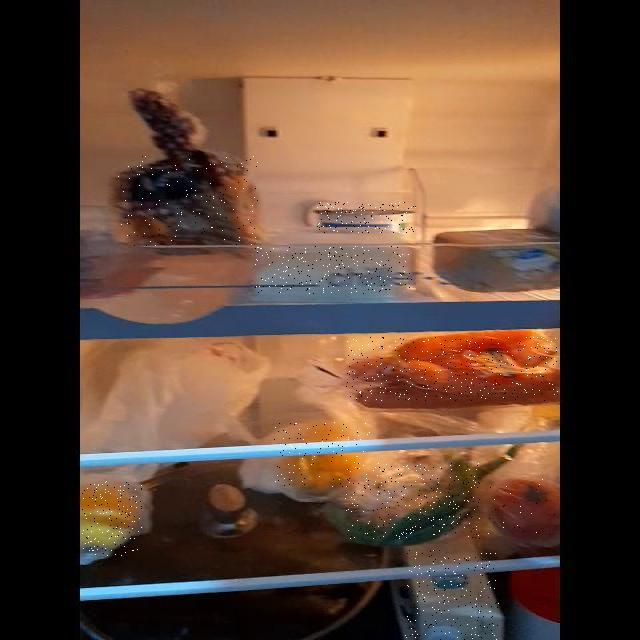bread: (119, 156, 258, 246)
butter: (439, 230, 557, 288)
carrot: (346, 337, 558, 401)
cheese: (255, 246, 412, 294)
green chilies: (345, 463, 480, 539)
lemon: (274, 422, 370, 487), (82, 481, 142, 556)
milk: (405, 550, 499, 640)
tomato: (488, 478, 556, 535)
yoghurt: (316, 202, 416, 233)
